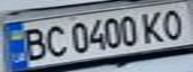0: (66, 19, 90, 54), (118, 12, 142, 47), (103, 15, 124, 49)
4: (87, 16, 109, 52)
B: (15, 25, 51, 62)
C: (39, 23, 69, 57)
K: (136, 8, 169, 43)
O: (157, 7, 190, 40)
